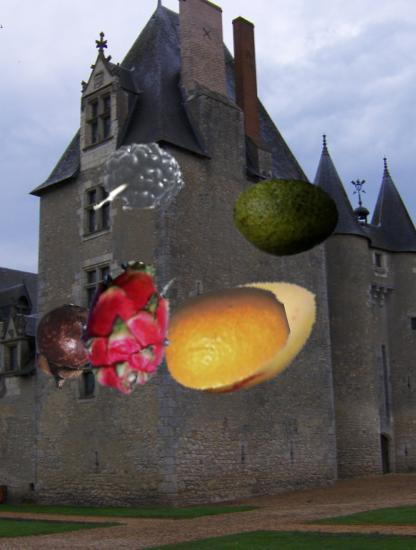Avocado: (232, 164, 339, 271)
Kumquats: (159, 272, 291, 404)
Mangostan: (22, 304, 108, 390)
Mulberry: (87, 111, 192, 216)
Pepino: (179, 260, 327, 408)
Pitahaya: (56, 260, 192, 396)
